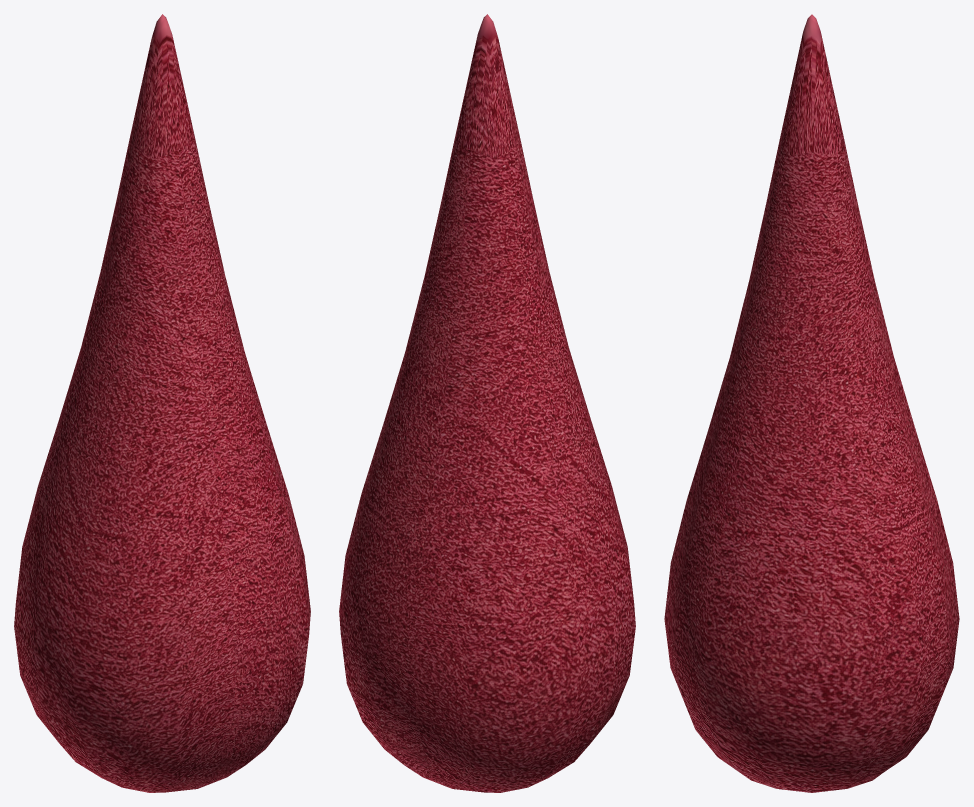
Rendered from blood_VFX.fbx.
3 views of the same model, side by side, from view 1: azimuth 30°, elevation 25°; view 2: azimuth 150°, elevation 25°; view 3: azimuth 270°, elevation 25° (orthographic).
Visible parts, largest first — view 1: DropLet; view 2: DropLet; view 3: DropLet.
Part boxes in pixels (left/top/right/bottom): DropLet: left=14, top=14, right=310, bottom=792; DropLet: left=339, top=14, right=635, bottom=792; DropLet: left=664, top=14, right=959, bottom=792.
Bounding box in the file's own units: 342 × 980 × 342.
Materials: 1 (1 with a texture image).
